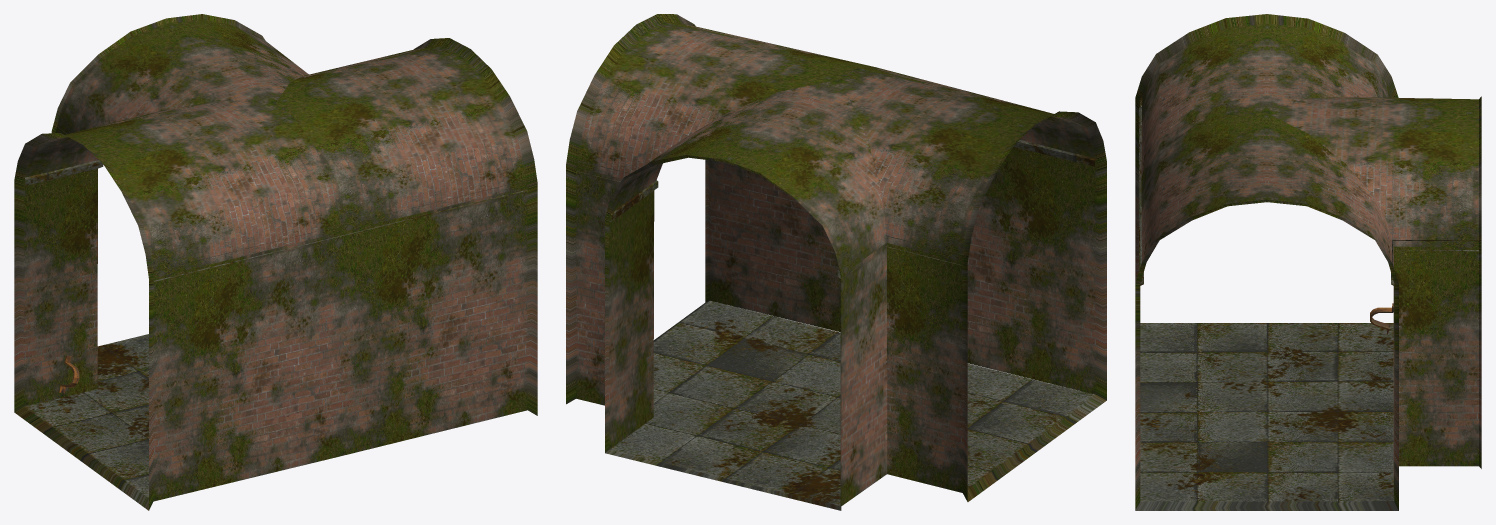
The model's file is TunnelTJunction.FBX.
3 renders of one model, left to right at view 1: azimuth 30°, elevation 25°; view 2: azimuth 150°, elevation 25°; view 3: azimuth 270°, elevation 25°, orthographic. The views are drawn at different scales.
Parts seen in each view (by area): view 1: TunnelTJunction; view 2: TunnelTJunction; view 3: TunnelTJunction.
Part boxes in pixels (bbox=[...]): TunnelTJunction: bbox=[14, 14, 537, 510]; TunnelTJunction: bbox=[566, 14, 1106, 510]; TunnelTJunction: bbox=[1135, 14, 1481, 510].
Bounding box in the file's own units: 519 × 406 × 410.
